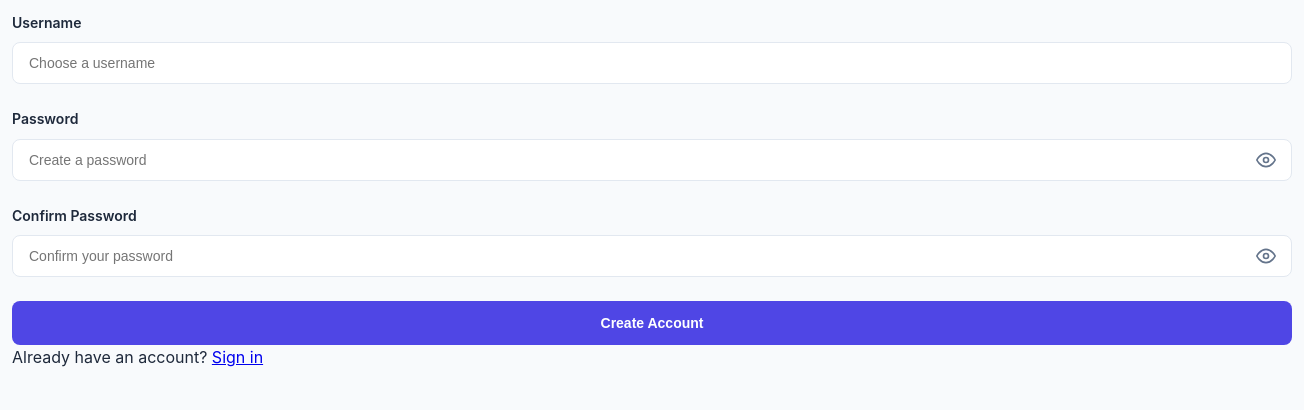
Test: RegisterForm › Form validation › should show validation error for invalid username characters
Type "user@name" into the field labelled "Username" at (652, 63), box [12,42,1292,84]
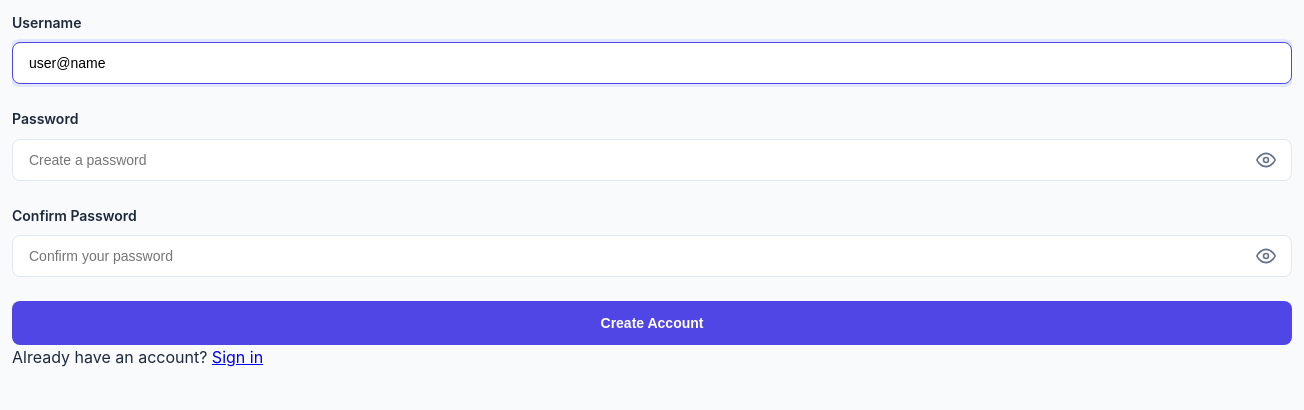
Press Tab
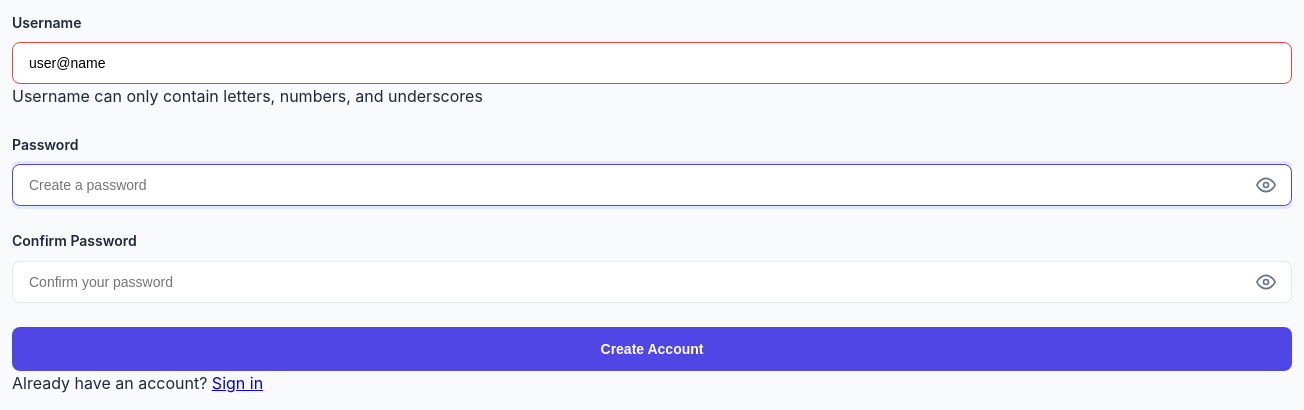
expect the text "Username can only contain letters, numbers, and underscores" is shown: met, box [12,86,483,106]
